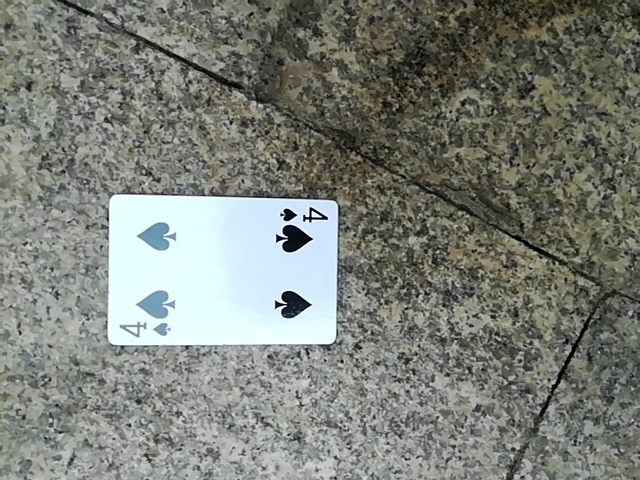ht 4: (103, 197, 339, 353)
